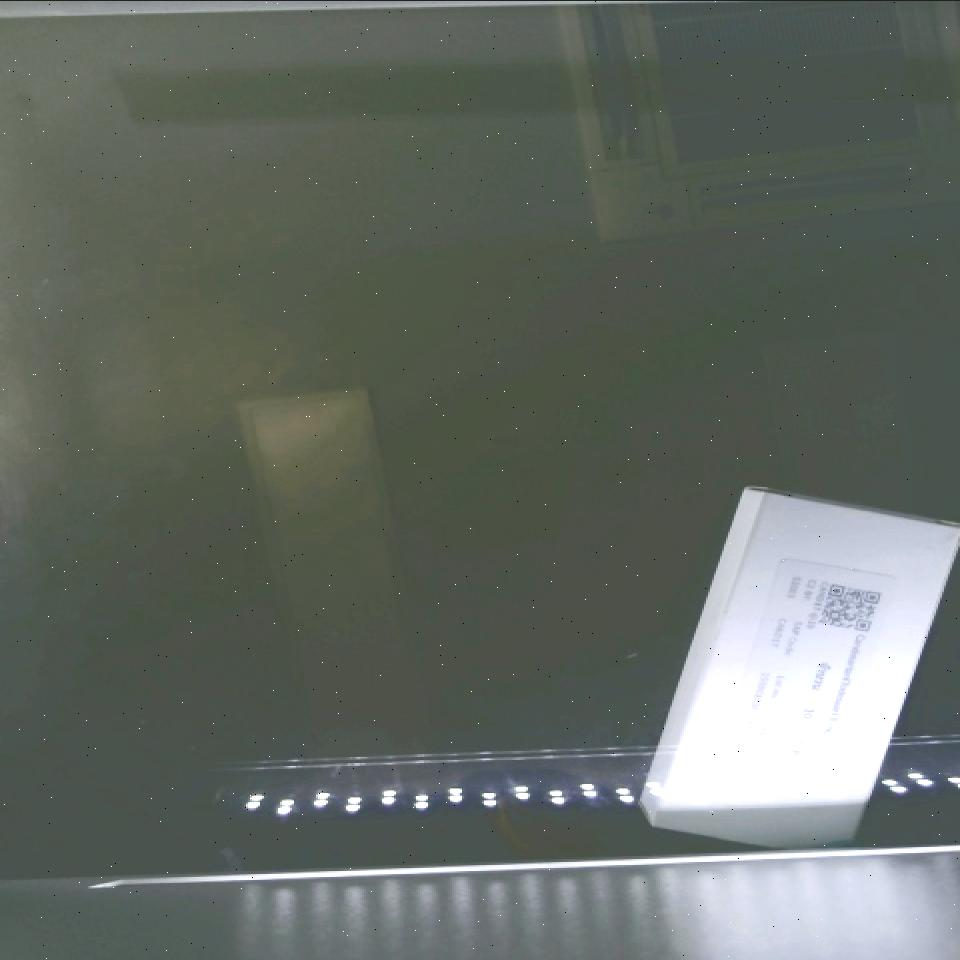medicine_box: (653, 467, 955, 883)
qr_code: (796, 557, 895, 653)
